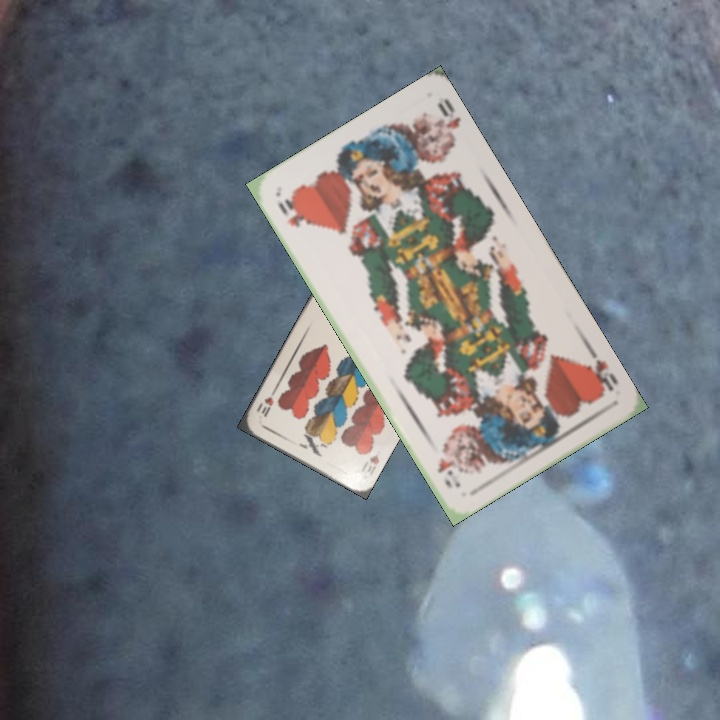H10: (361, 450, 382, 478)
HO: (581, 355, 621, 398), (274, 193, 311, 230)
